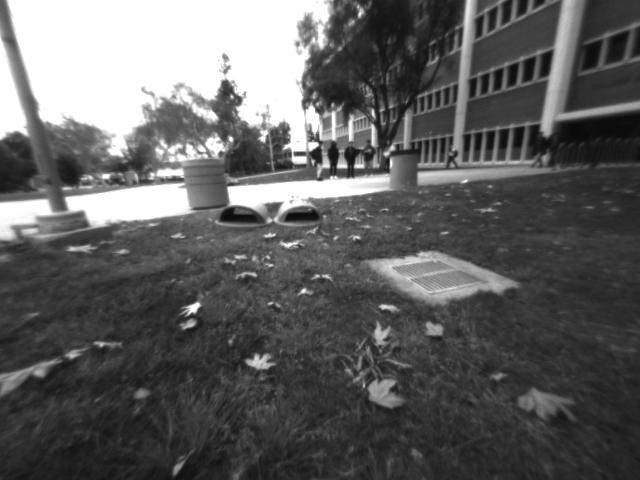trashcan: (186, 159, 227, 209), (388, 150, 422, 194)
